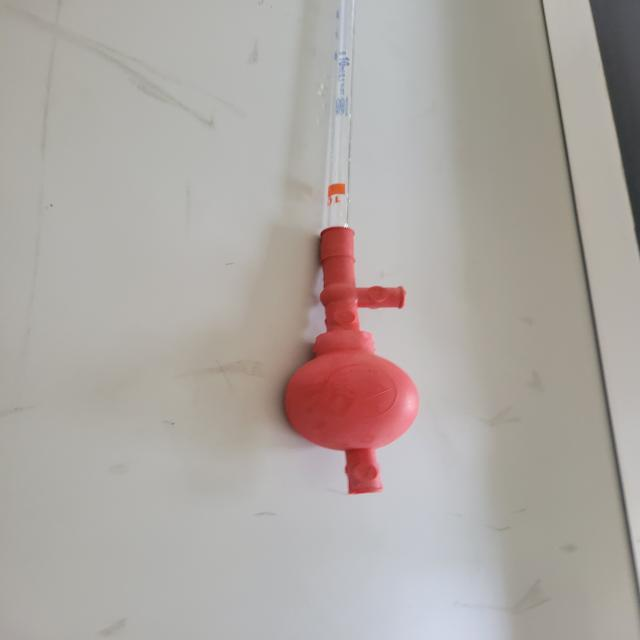Volumetric_Pipet: (258, 1, 450, 514)
